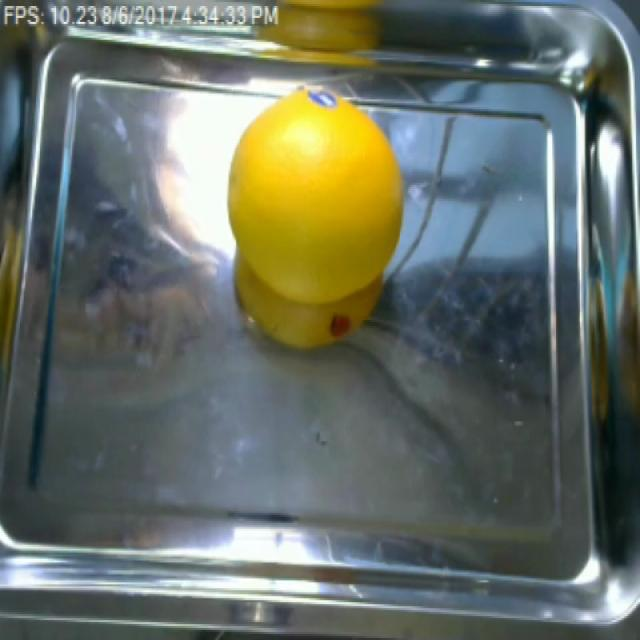Fruit: (219, 85, 408, 358), (249, 0, 407, 62)
